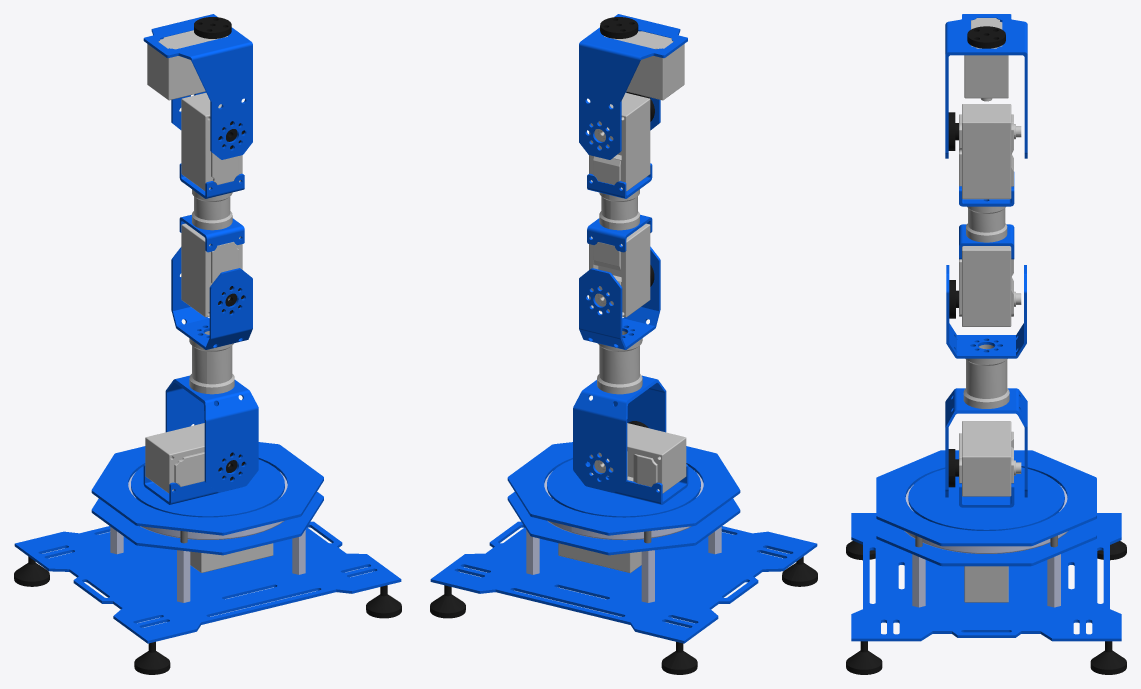
File: XArm.glb
The picture shows the model from 3 angles, left to right: view 1: azimuth 30°, elevation 25°; view 2: azimuth 150°, elevation 25°; view 3: azimuth 270°, elevation 25°; orthographic projection.
Parts seen in each view (by area): view 1: empty_26, empty_23, empty_15, empty_5, empty_7, empty_24, empty_22, empty_14, empty_4, empty_9, empty_17, empty_6 (+11 smaller); view 2: empty_26, empty_23, empty_15, empty_5, empty_7, empty_24, empty_22, empty_14, empty_4, empty_9, empty_17, empty_6 (+11 smaller); view 3: empty_26, empty_23, empty_22, empty_14, empty_9, empty_4, empty_24, empty_15, empty_7, empty_17, empty_6, empty_5 (+11 smaller).
Part boxes in pixels (left/top/right/bottom): empty_26: left=14, top=521, right=401, bottom=643; empty_23: left=91, top=442, right=323, bottom=535; empty_15: left=143, top=14, right=252, bottom=159; empty_5: left=165, top=375, right=258, bottom=492; empty_7: left=171, top=247, right=252, bottom=349; empty_24: left=91, top=492, right=323, bottom=555; empty_22: left=131, top=459, right=284, bottom=517; empty_14: left=181, top=93, right=242, bottom=190; empty_4: left=145, top=423, right=204, bottom=493; empty_9: left=181, top=223, right=242, bottom=317; empty_17: left=147, top=30, right=227, bottom=100; empty_6: left=189, top=331, right=234, bottom=394; empty_26: left=430, top=521, right=817, bottom=643; empty_23: left=507, top=442, right=740, bottom=535; empty_15: left=579, top=14, right=687, bottom=159; empty_5: left=573, top=375, right=666, bottom=492; empty_7: left=579, top=246, right=660, bottom=349; empty_24: left=507, top=491, right=740, bottom=555; empty_22: left=547, top=459, right=700, bottom=517; empty_14: left=589, top=92, right=650, bottom=191; empty_4: left=590, top=423, right=686, bottom=493; empty_9: left=589, top=223, right=650, bottom=317; empty_17: left=604, top=31, right=684, bottom=100; empty_6: left=597, top=331, right=642, bottom=394; empty_26: left=851, top=513, right=1121, bottom=641; empty_23: left=876, top=450, right=1096, bottom=546; empty_22: left=908, top=467, right=1064, bottom=530; empty_14: left=959, top=104, right=1021, bottom=199; empty_9: left=959, top=246, right=1021, bottom=326; empty_4: left=959, top=421, right=1021, bottom=496; empty_24: left=876, top=518, right=1096, bottom=566; empty_15: left=945, top=14, right=1027, bottom=158; empty_7: left=946, top=265, right=1026, bottom=358; empty_17: left=964, top=18, right=1008, bottom=101; empty_6: left=963, top=344, right=1009, bottom=408; empty_5: left=945, top=388, right=1027, bottom=497.
Size of the model in its own units: 159 by 330 by 145.
